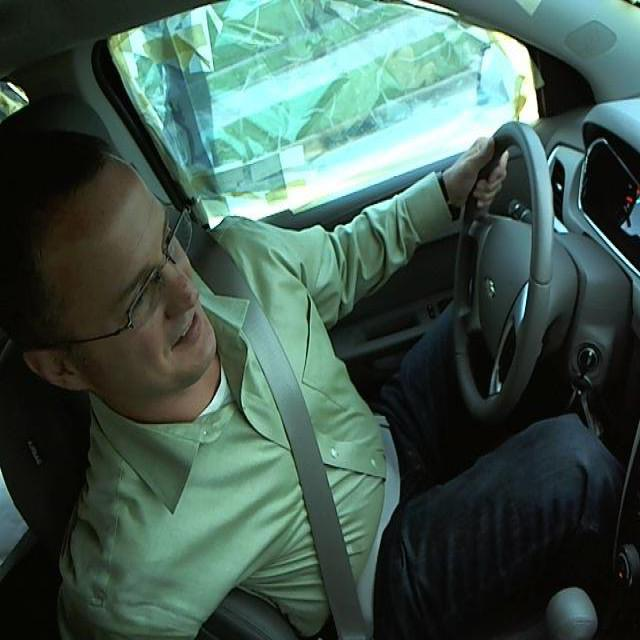seatbelt: (205, 281, 379, 639)
